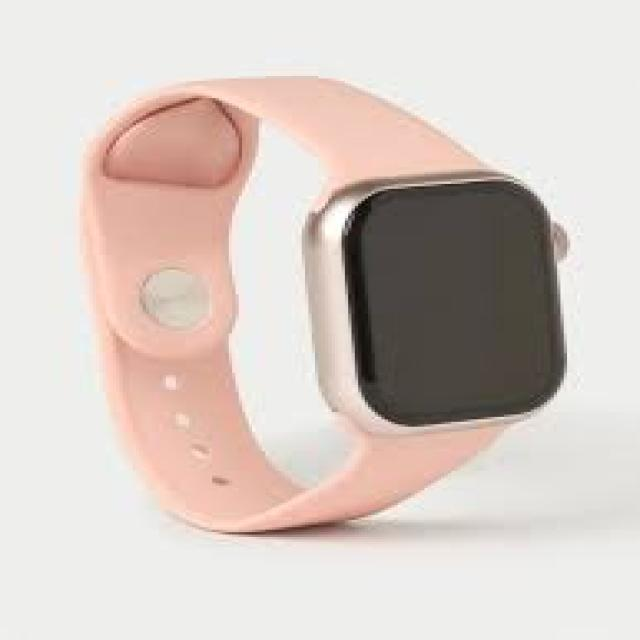objects: (83, 78, 564, 530)
